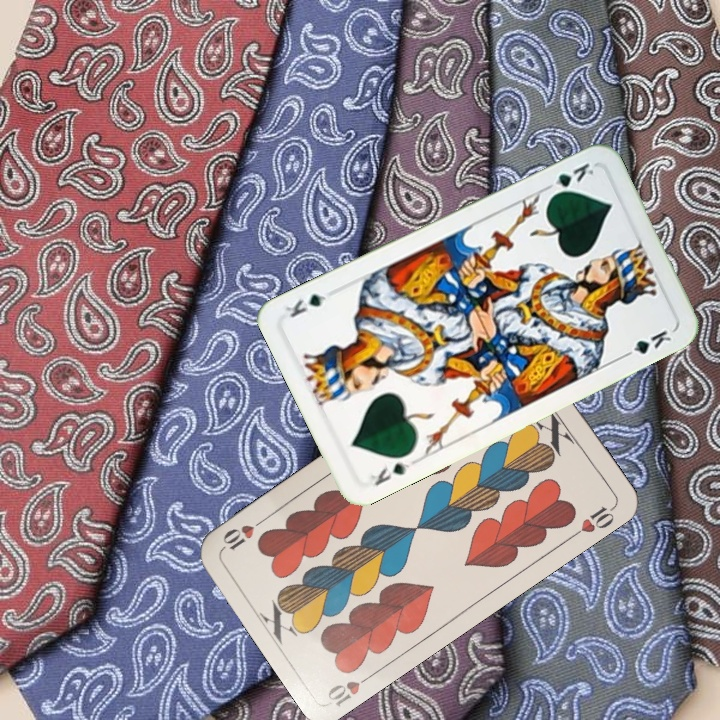GK: (541, 158, 596, 200), (365, 458, 413, 489)
H10: (323, 668, 378, 709)
